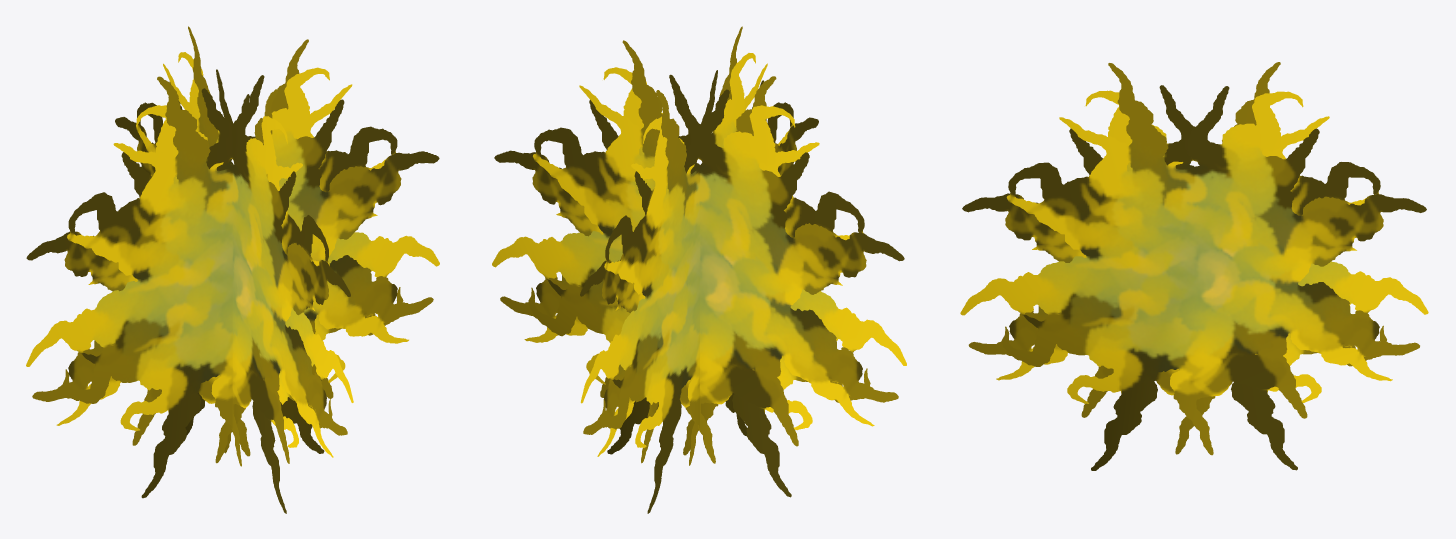
Rendered from painted-weed-052.glb.
3 renders of one model, left to right at view 1: azimuth 30°, elevation 25°; view 2: azimuth 150°, elevation 25°; view 3: azimuth 270°, elevation 25°, orthographic. The views are drawn at different scales.
Size of the model in its own units: 10.29 by 9.79 by 10.29.
1 material, 1 textured.
